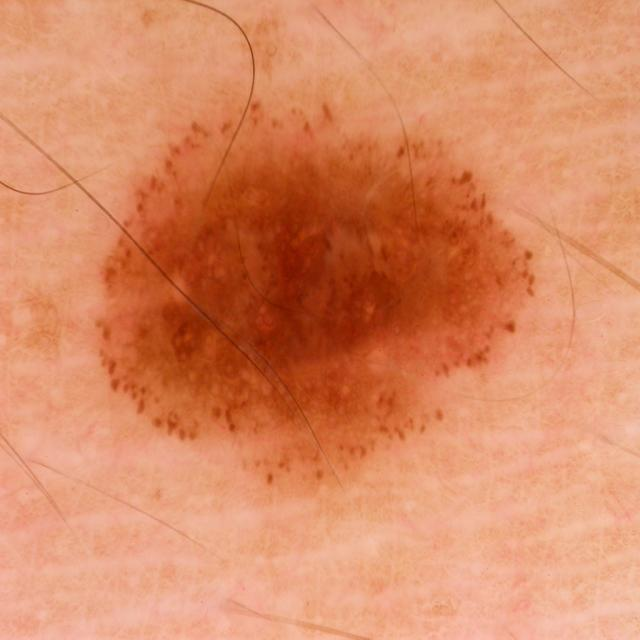Benign: (87, 91, 546, 497)
